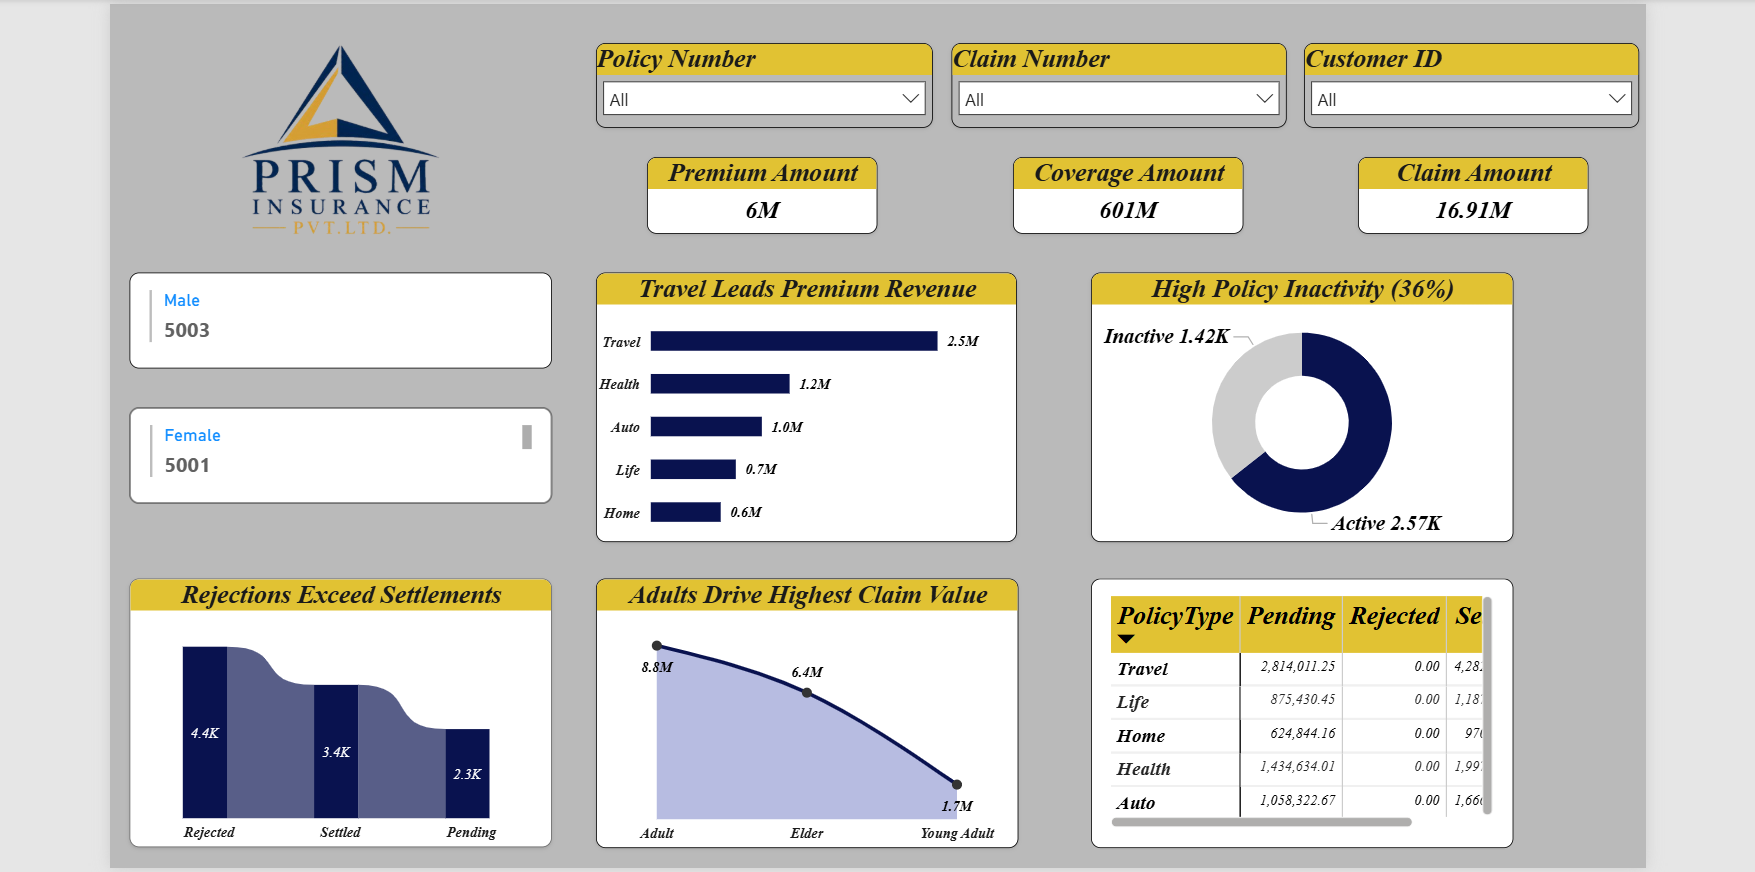

The dashboard page shown, as its layout file describes it:
{"tool":"powerbi","page":{"name":"Page 1","canvas":[1280,720],"ordinal":0},"visuals":[{"type":"slicer","title":"Policy Number","fields":{"Values":["InsuranceData.PolicyNumber"]},"box":[405.3,32.1,280.5,70.4],"z":0},{"type":"slicer","title":"Claim Number","fields":{"Values":["InsuranceData.ClaimNumber"]},"box":[700.7,32.1,279.3,70.4],"z":1000},{"type":"slicer","title":"Customer ID","fields":{"Values":["InsuranceData.CustomerID"]},"box":[994.8,32.1,279.3,70.4],"z":2000},{"type":"card","title":"Premium Amount","fields":{"Values":["InsuranceData.Total Premium"]},"box":[448,128,192,64],"z":3000},{"type":"card","title":"Coverage Amount","fields":{"Values":["Measures Table.Coverage Amount"]},"box":[752,128,192,64],"z":4000},{"type":"multiRowCard","fields":{"Values":["InsuranceData.Gender","CountNonNull(InsuranceData.Gender)"]},"box":[16,224,352,80],"z":4500},{"type":"multiRowCard","fields":{"Values":["InsuranceData.Gender","CountNonNull(InsuranceData.Gender)"]},"box":[16,336,352,80],"z":4750},{"type":"card","title":"Claim Amount","fields":{"Values":["Sum(InsuranceData.ClaimAmount)"]},"box":[1040,128,192,64],"z":5000},{"type":"ribbonChart","title":"Rejections Exceed Settlements","fields":{"Category":["InsuranceData.ClaimStatus"],"Y":["CountNonNull(InsuranceData.ClaimStatus)"]},"box":[16.7,478.5,352,224.1],"z":8000},{"type":"barChart","title":"Travel Leads Premium Revenue","fields":{"Category":["InsuranceData.PolicyType"],"Y":["Sum(InsuranceData.PremiumAmount)"]},"box":[405.3,223.7,350.9,224.9],"z":9000},{"type":"lineChart","title":"Adults Drive Highest Claim Value","fields":{"Category":["InsuranceData.Age Groups"],"Y":["Sum(InsuranceData.ClaimAmount)"]},"box":[405.3,478.2,352.2,224.9],"z":10000},{"type":"donutChart","title":"High Policy Inactivity (36%)","fields":{"Category":["InsuranceData.Active/Inactive"],"Y":["CountNonNull(InsuranceData.Active/Inactive)"]},"box":[818,223.7,352.2,224.9],"z":11000},{"type":"pivotTable","fields":{"Rows":["InsuranceData.PolicyType"],"Columns":["InsuranceData.ClaimStatus"],"Values":["Sum(InsuranceData.ClaimAmount)"]},"box":[818,478.2,352.2,224.9],"z":12000},{"type":"image","box":[40.8,0,301.8,236.2],"z":14001}]}

Visuals, with their boxes on the page's 1280x720 design canvas (x1, y1, x2, y2). These are canvas units, not pixel positions in the 1755x872 screenshot, which may show the page scaled, cropped or inside an application window:
"Policy Number" slicer: locate(405, 32, 686, 102)
"Claim Number" slicer: locate(701, 32, 980, 102)
"Customer ID" slicer: locate(995, 32, 1274, 102)
"Premium Amount" card: locate(448, 128, 640, 192)
"Coverage Amount" card: locate(752, 128, 944, 192)
multiRowCard - InsuranceData.Gender x CountNonNull(InsuranceData.Gender): locate(16, 224, 368, 304)
multiRowCard - InsuranceData.Gender x CountNonNull(InsuranceData.Gender): locate(16, 336, 368, 416)
"Claim Amount" card: locate(1040, 128, 1232, 192)
"Rejections Exceed Settlements" ribbonChart: locate(17, 478, 369, 703)
"Travel Leads Premium Revenue" barChart: locate(405, 224, 756, 449)
"Adults Drive Highest Claim Value" lineChart: locate(405, 478, 758, 703)
"High Policy Inactivity (36%)" donutChart: locate(818, 224, 1170, 449)
pivotTable - InsuranceData.PolicyType x InsuranceData.ClaimStatus: locate(818, 478, 1170, 703)
image: locate(41, 0, 343, 236)
